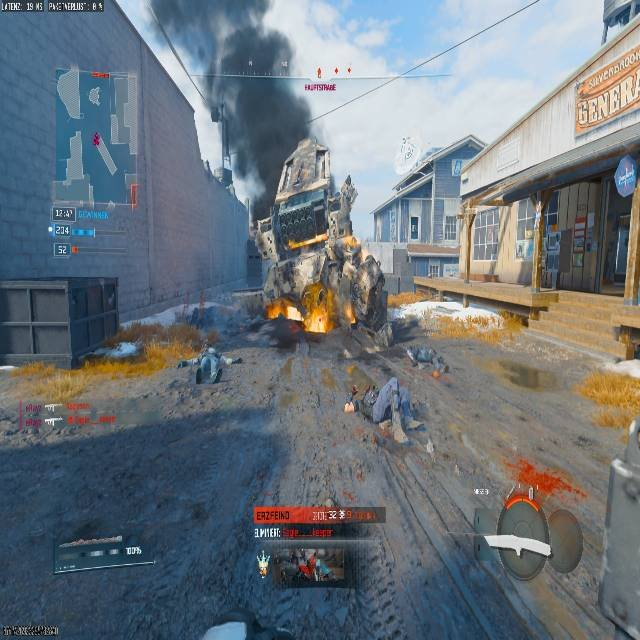player: (177, 340, 243, 384)
